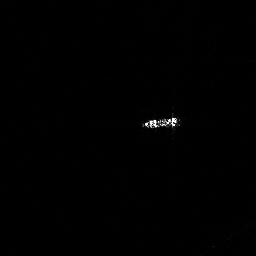ship: (144, 116, 177, 128)
